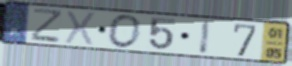5: (148, 16, 179, 51)
7: (231, 22, 258, 58)
I: (198, 19, 213, 57)
O: (106, 13, 143, 50)
X: (63, 9, 98, 48)
Z: (29, 7, 64, 45)
